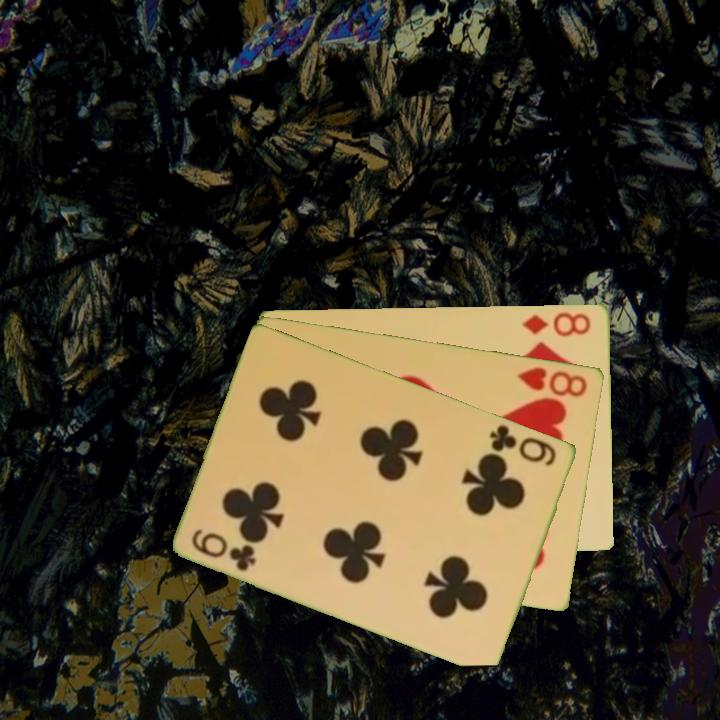6c: (486, 421, 560, 469), (188, 525, 259, 574)
8d: (519, 308, 594, 339)
8h: (515, 363, 591, 400)
